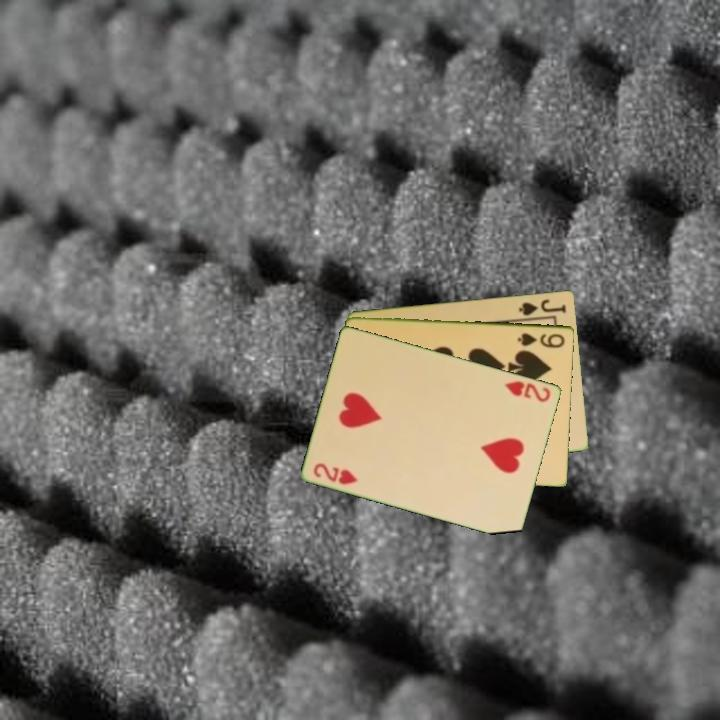2h: (502, 377, 554, 405), (310, 459, 361, 487)
9s: (514, 329, 568, 351)
Js: (515, 295, 569, 318)
